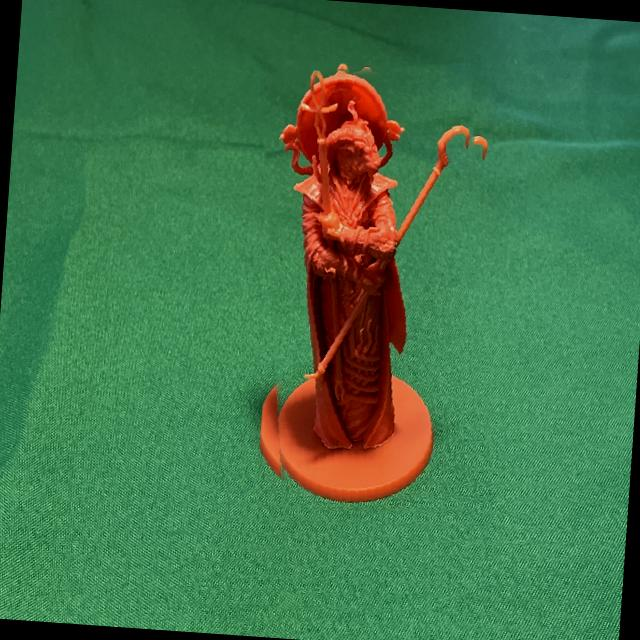amon: (242, 54, 509, 528)
